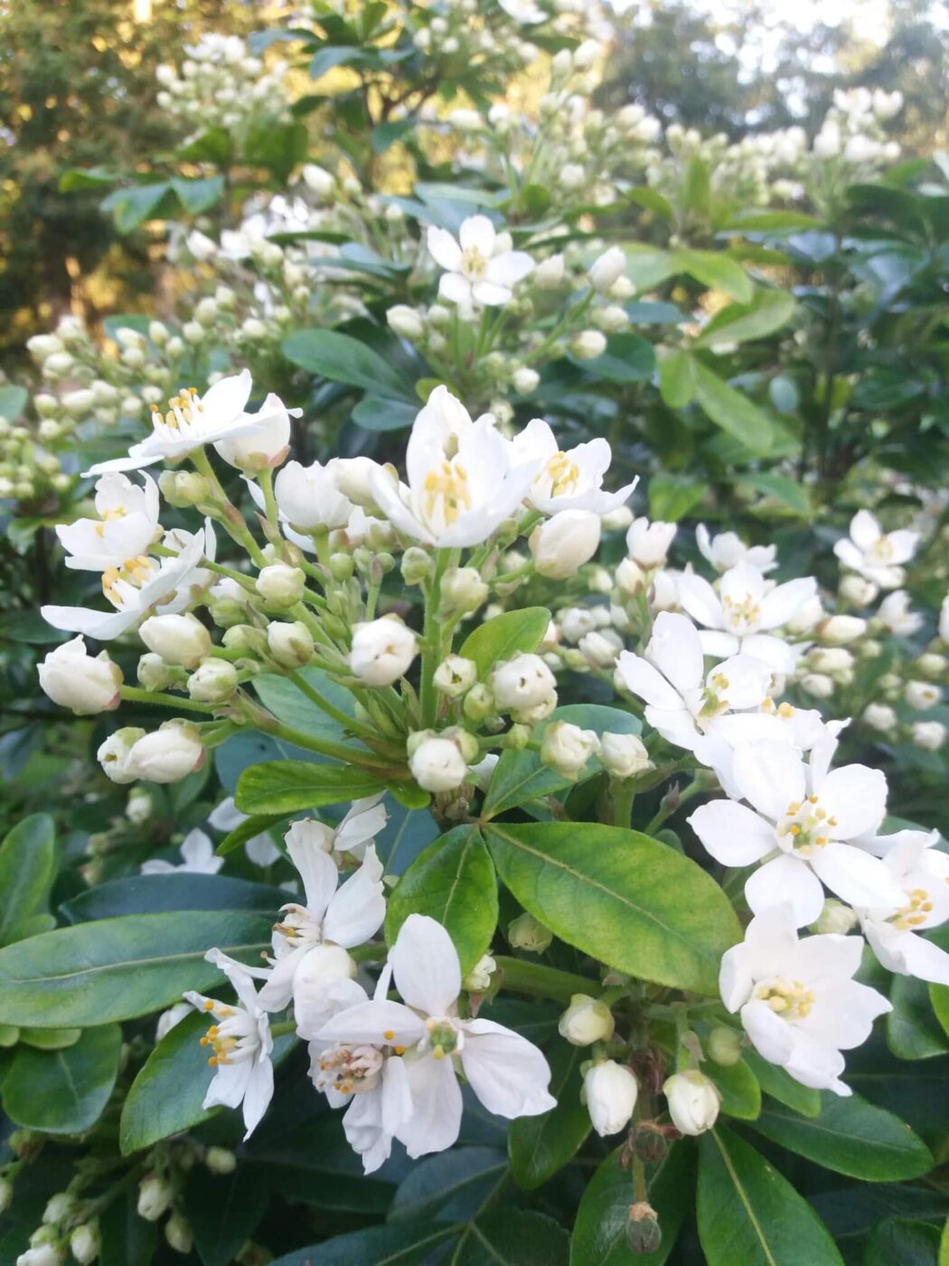flower: (333, 907, 561, 1132), (693, 723, 894, 924), (704, 906, 903, 1102), (634, 625, 826, 792), (234, 822, 390, 1024), (352, 410, 561, 555), (285, 995, 442, 1173), (165, 936, 286, 1128), (63, 384, 276, 482), (33, 531, 211, 643), (670, 551, 838, 658), (493, 413, 641, 528), (867, 823, 948, 1014), (412, 210, 542, 317), (39, 467, 167, 559), (829, 515, 930, 583)
